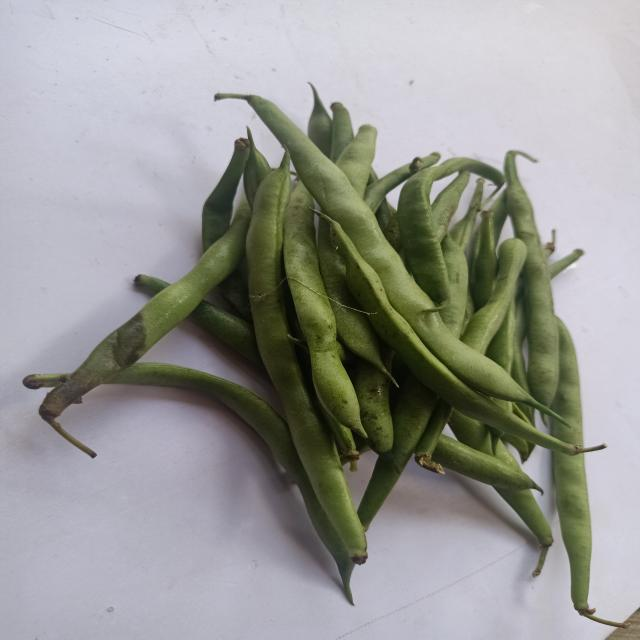Beans: (247, 95, 540, 407), (320, 213, 607, 456), (107, 363, 353, 605), (245, 153, 367, 565), (38, 200, 251, 432), (282, 182, 365, 436), (505, 150, 560, 406), (553, 454, 595, 617), (432, 435, 544, 494), (551, 320, 584, 446)
